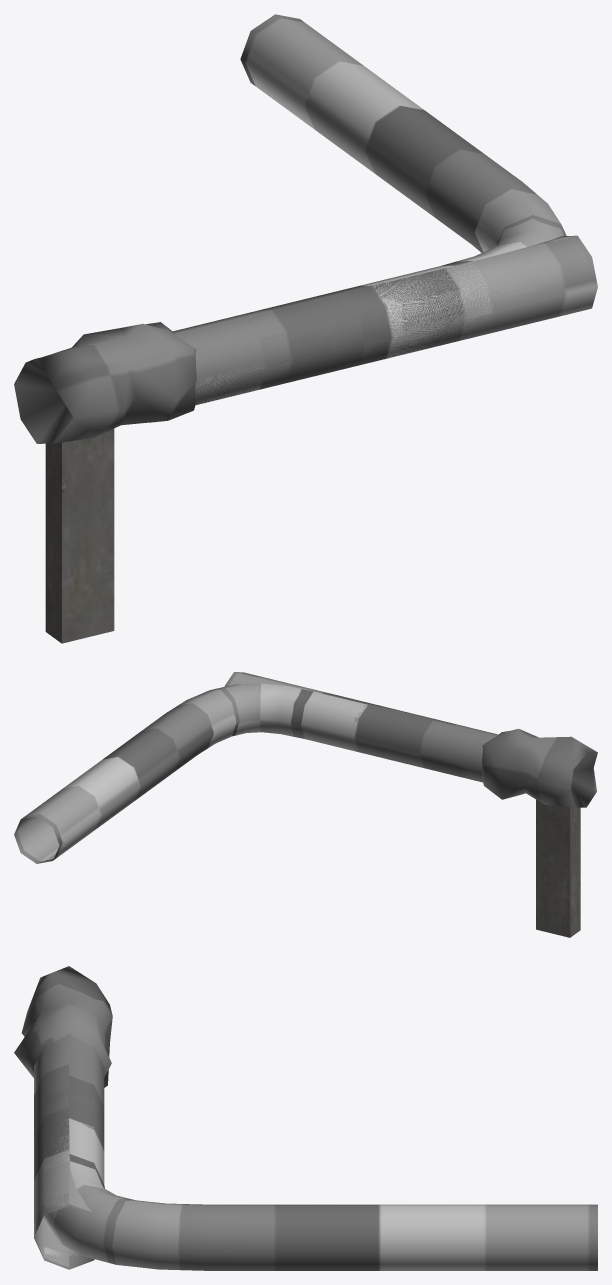
The model's file is bz_pipes_01.fbx.
3 renders of one model, top to bottom at view 1: azimuth 30°, elevation 25°; view 2: azimuth 150°, elevation 25°; view 3: azimuth 270°, elevation 25°, orthographic. The views are drawn at different scales.
Visible parts, largest first — view 1: bz_pipes_angle_01, bz_pipes02, bz_pipes01, bz_pipes_at_01, bz_pipes_at_02; view 2: bz_pipes_angle_01, bz_pipes01, bz_pipes_at_01, bz_pipes_at_02, bz_pipes02; view 3: bz_pipes_angle_01, bz_pipes01, bz_pipes02, bz_pipes_at_01.
Part boxes in pixels (x1,y1,x2,y2): bz_pipes_angle_01: (240,14,566,365); bz_pipes02: (195,235,597,404); bz_pipes01: (173,235,593,404); bz_pipes_at_01: (14,322,196,443); bz_pipes_at_02: (45,429,114,643); bz_pipes_angle_01: (14,683,411,863); bz_pipes01: (224,672,497,781); bz_pipes_at_01: (481,729,597,807); bz_pipes_at_02: (536,799,580,937); bz_pipes02: (227,672,497,782); bz_pipes_angle_01: (43,1095,597,1270); bz_pipes01: (34,1034,104,1269); bz_pipes02: (34,1034,103,1269); bz_pipes_at_01: (14,966,112,1087).
Size of the model in its own units: 3.31 by 1.6 by 3.31.
